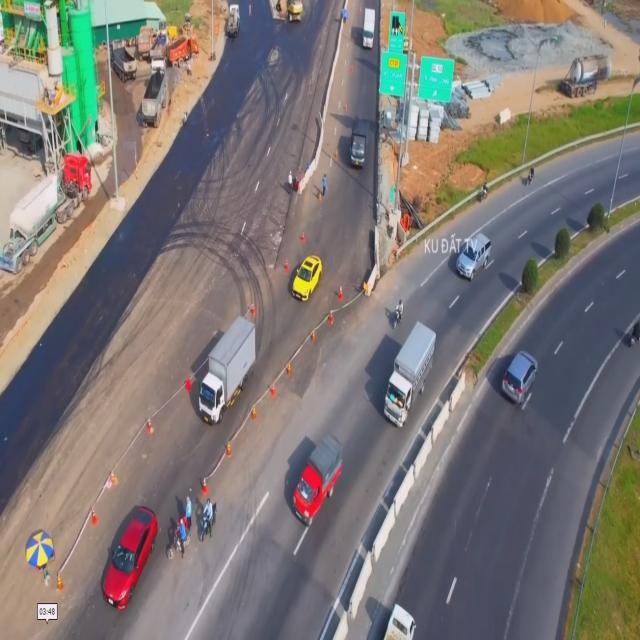car: (101, 502, 160, 608), (499, 350, 540, 406), (456, 230, 492, 281), (292, 255, 320, 302)
motorbike: (196, 499, 218, 543), (166, 524, 191, 561), (393, 299, 404, 330)
truck: (199, 313, 255, 426), (385, 322, 440, 430), (292, 435, 344, 523), (382, 602, 416, 640), (350, 124, 367, 171), (363, 9, 376, 46)
